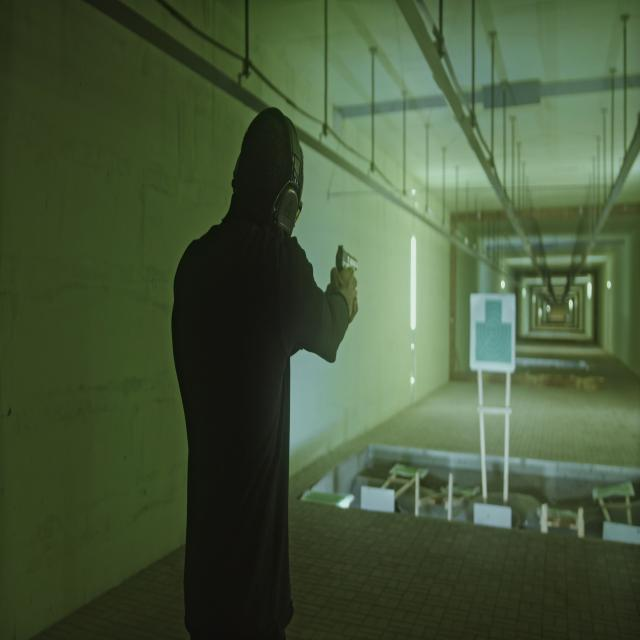Gun_Holder: (325, 241, 369, 317)
Person: (168, 103, 359, 640)
